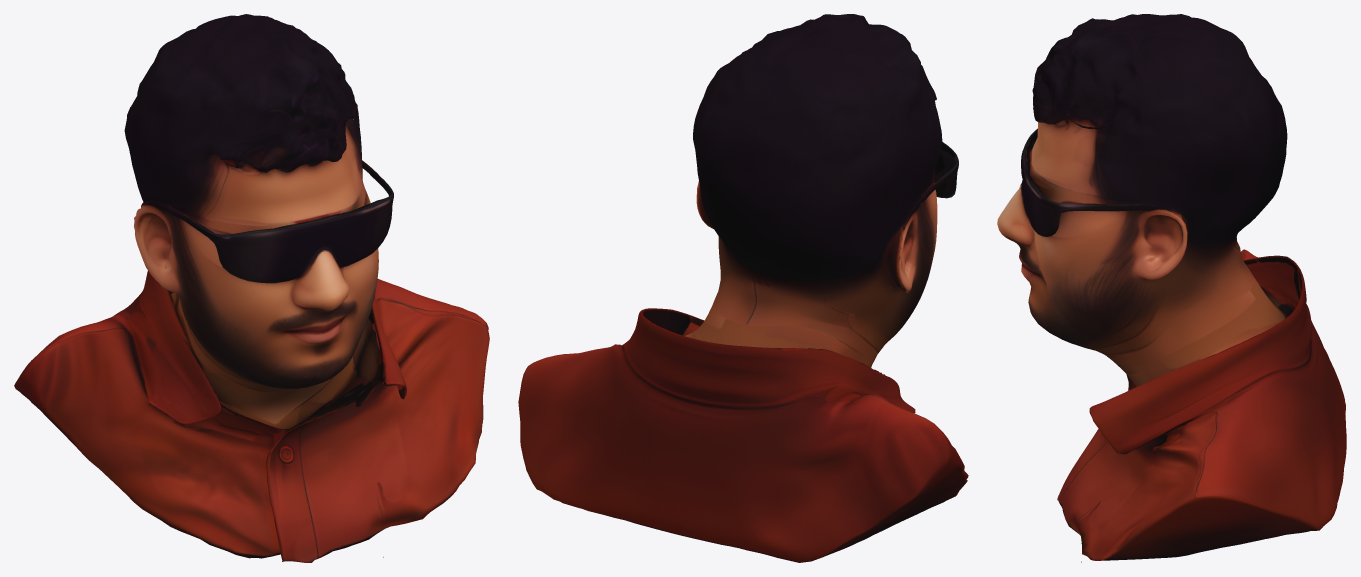
The model's file is rishihero.glb.
3 renders of one model, left to right at view 1: azimuth 30°, elevation 25°; view 2: azimuth 150°, elevation 25°; view 3: azimuth 270°, elevation 25°, orthographic. The views are drawn at different scales.
Parts seen in each view (by area): view 1: model; view 2: model; view 3: model.
Part boxes in pixels (bbox=[...]): model: bbox=[14, 14, 489, 562]; model: bbox=[518, 14, 968, 562]; model: bbox=[997, 14, 1346, 562].
Bounding box in the file's own units: 1.66 × 1.89 × 1.21.
1 material, 1 textured.
